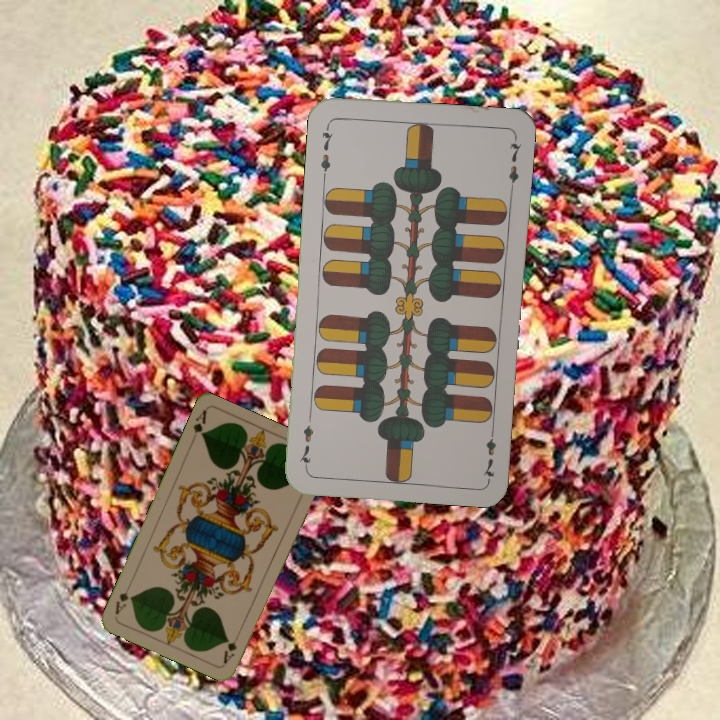E7: (316, 120, 336, 180), (479, 422, 498, 481)
GA: (187, 406, 209, 446), (219, 638, 239, 666)
